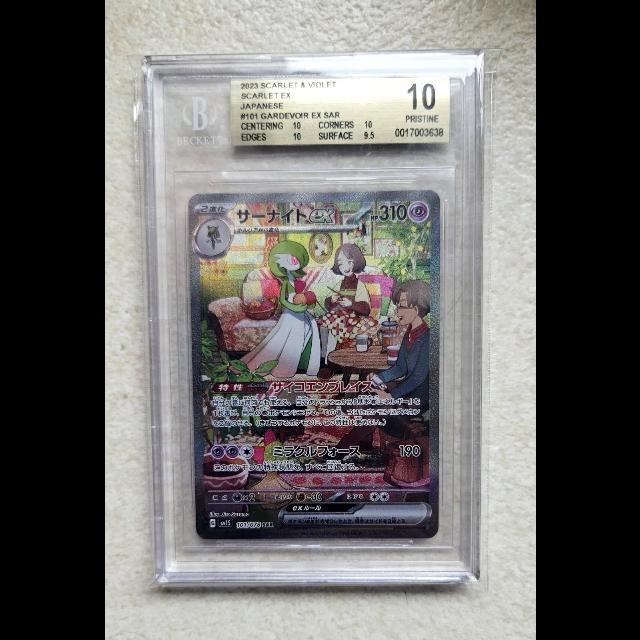bgs_label: (228, 75, 450, 147)
bgs_slab: (139, 49, 483, 584)
card: (186, 190, 441, 539)
